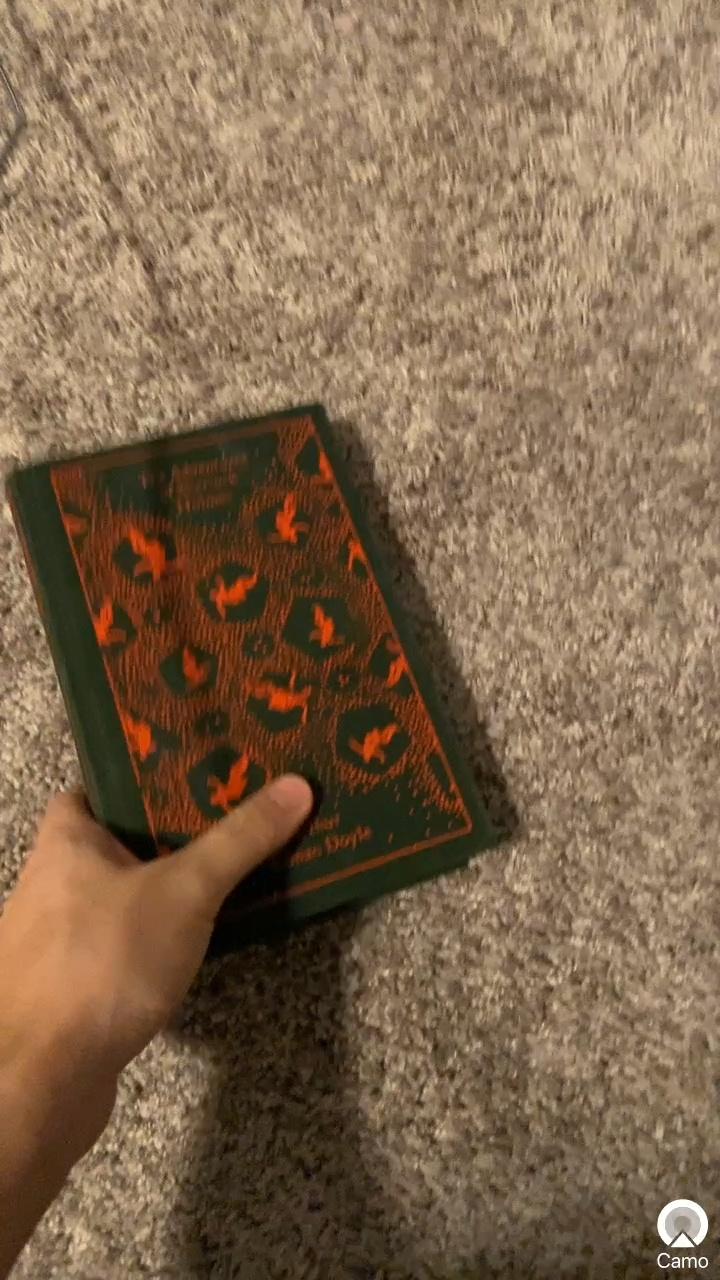Book: (6, 388, 533, 959)
